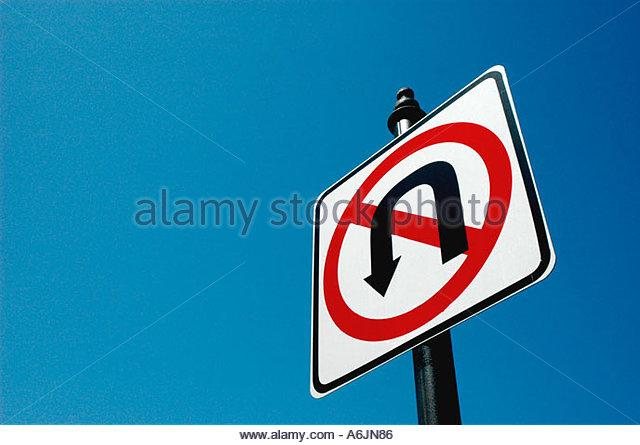no_u_turn: (323, 121, 512, 341)
